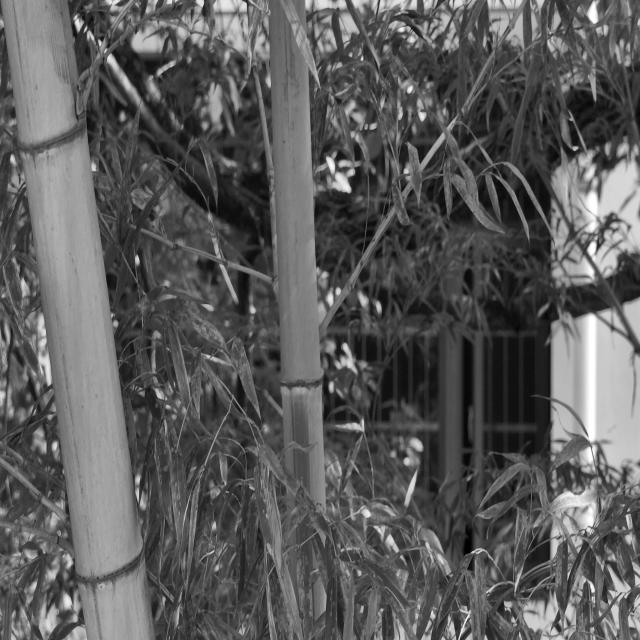Bamboo-shoots: (1, 0, 156, 640), (270, 0, 327, 640)
